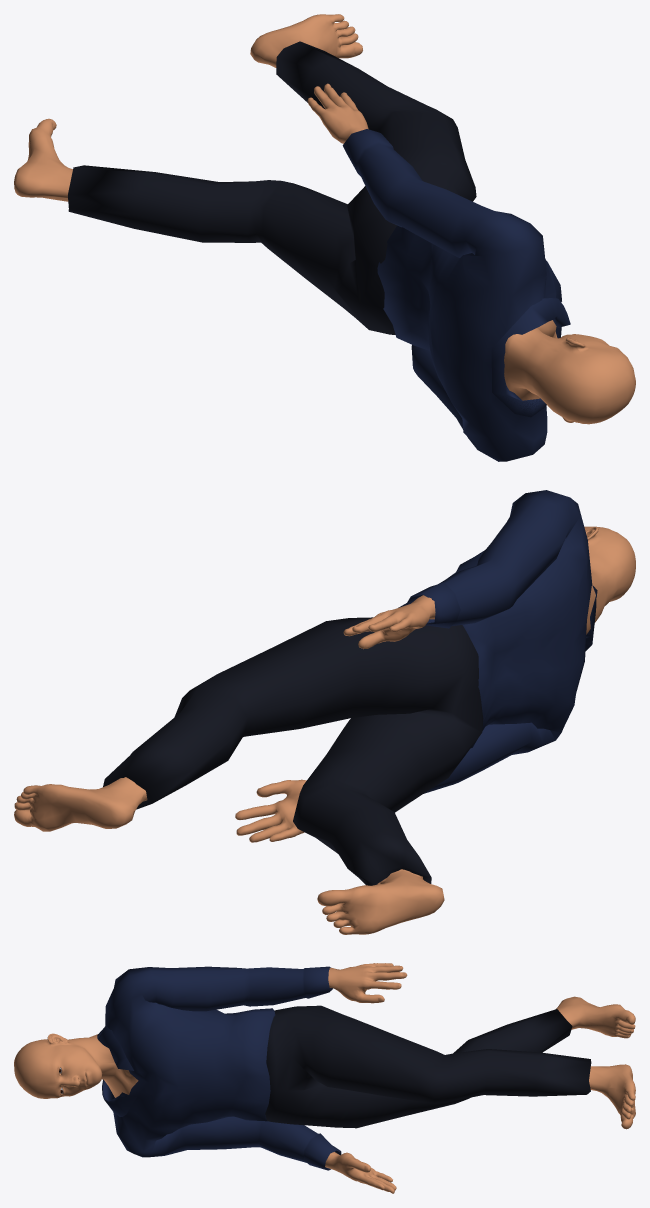
Rendered from walk.obj.
The picture shows the model from 3 angles, top to bottom: view 1: azimuth 30°, elevation 25°; view 2: azimuth 150°, elevation 25°; view 3: azimuth 270°, elevation 25°; orthographic projection. The views are drawn at different scales.
Bounding box in the file's own units: 0.8647 × 0.5345 × 1.66.
